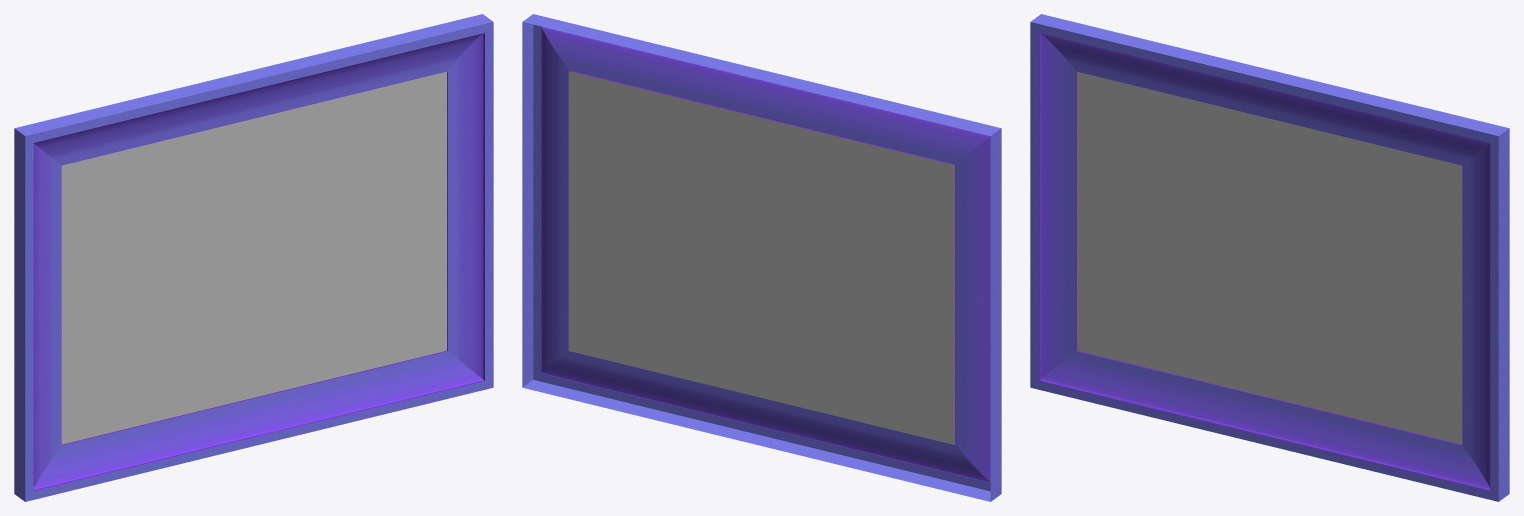
3 views of the same model, side by side, from view 1: azimuth 30°, elevation 25°; view 2: azimuth 150°, elevation 25°; view 3: azimuth 330°, elevation 25° (orthographic).
Visible parts, largest first — view 1: _09_03, _09_03_frame; view 2: _09_03, _09_03_frame; view 3: _09_03, _09_03_frame.
Boxes of the visible parts, x1=… form: _09_03: x1=61, y1=71, x2=446, y2=444; _09_03_frame: x1=14, y1=14, x2=493, y2=501; _09_03: x1=568, y1=71, x2=954, y2=444; _09_03_frame: x1=522, y1=14, x2=1001, y2=501; _09_03: x1=1077, y1=71, x2=1462, y2=444; _09_03_frame: x1=1030, y1=14, x2=1509, y2=501.
Size of the model in its own units: 206 by 154 by 8.25.
